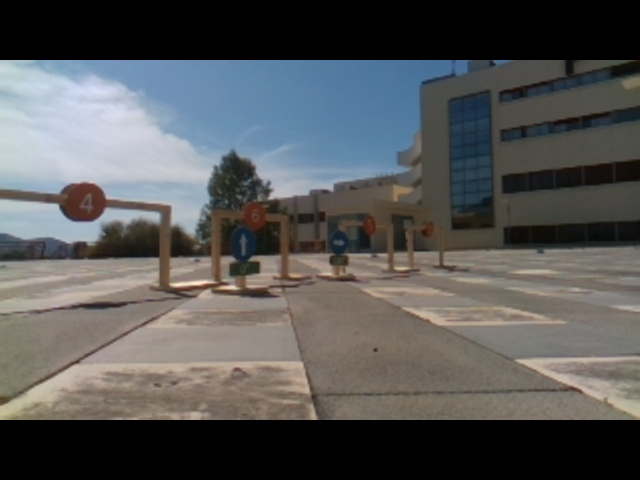0_degree: (228, 261, 261, 276)
arrow_right: (327, 230, 351, 253)
arrow_up: (229, 229, 259, 259)
checkpoint_foot: (156, 280, 199, 292), (273, 269, 310, 281)
checkpoint_side: (155, 202, 175, 286), (208, 208, 225, 278), (277, 210, 291, 278)
checkpoint_signal: (1, 185, 178, 214), (209, 207, 294, 223), (337, 218, 395, 229)
four: (60, 183, 107, 222)
six: (244, 204, 267, 228)
